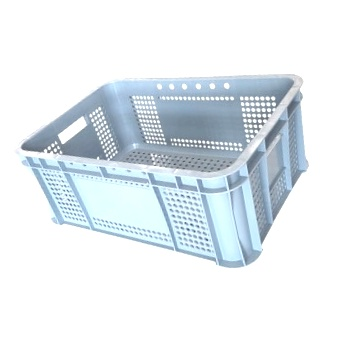plastic: (15, 73, 310, 273)
